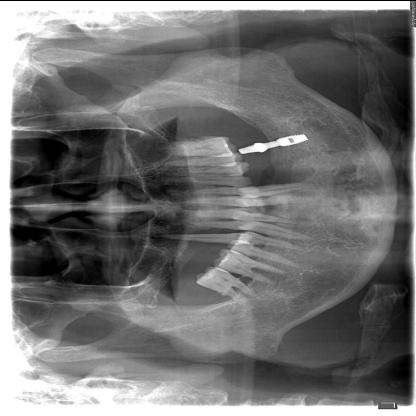Bicon: (274, 128, 318, 152)
